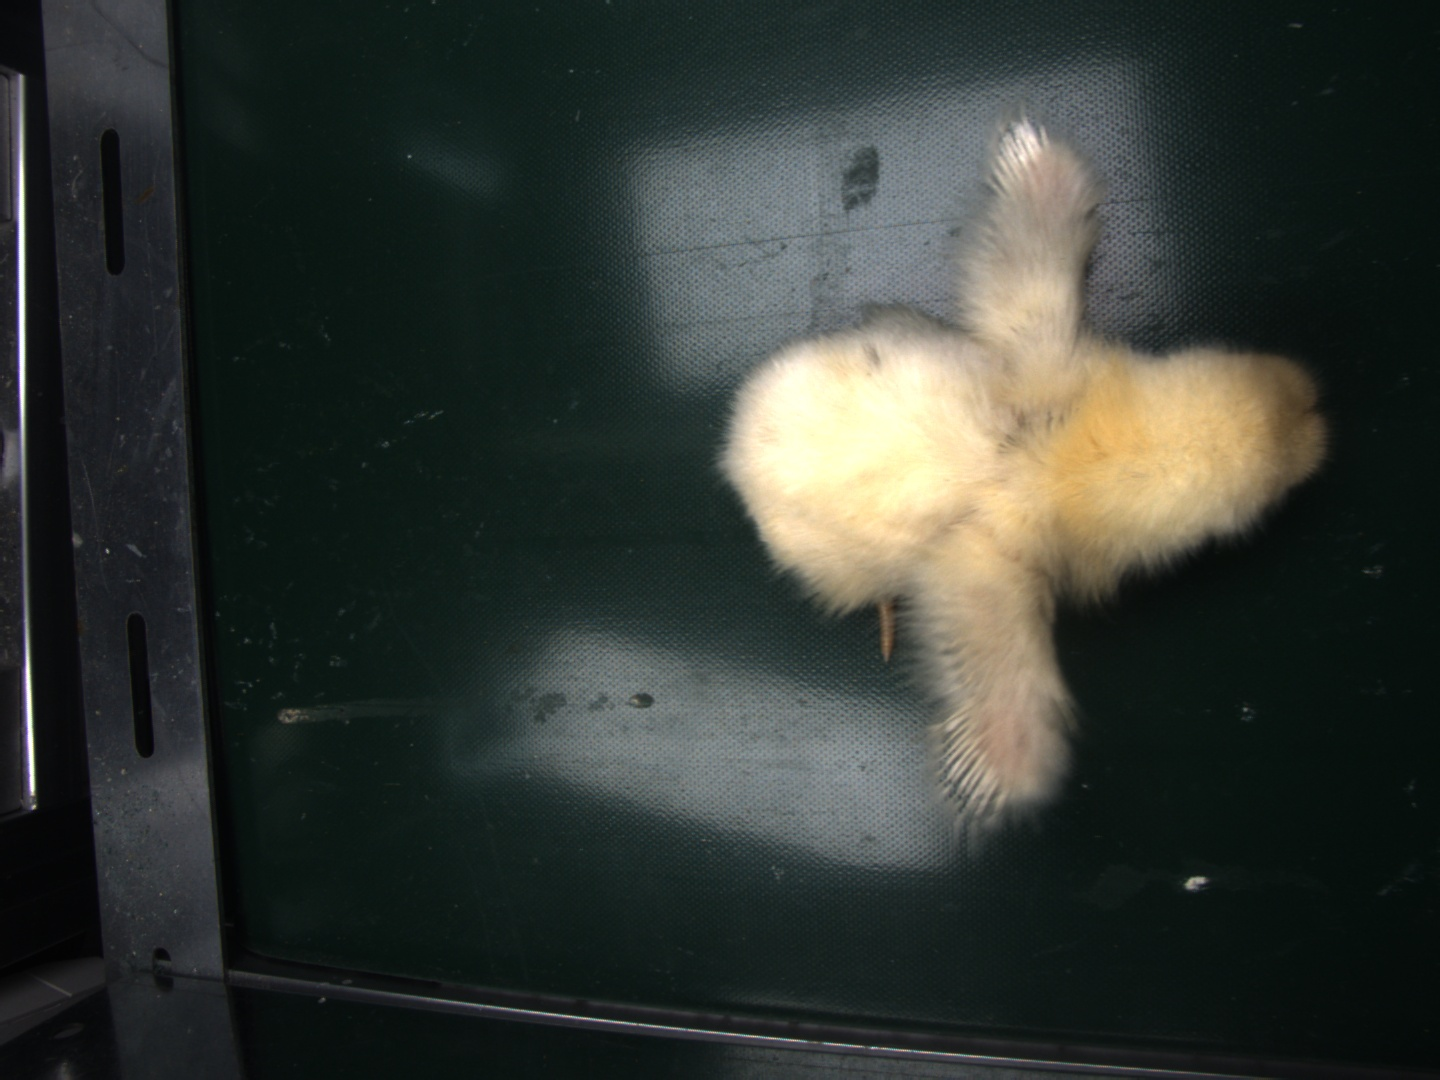male: (941, 711, 1007, 812)
